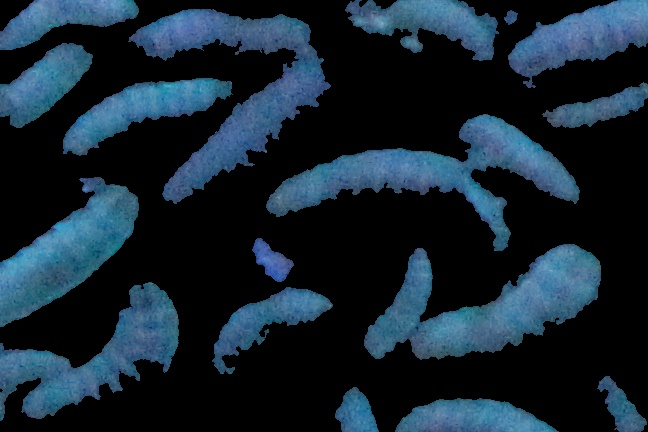larvae: (158, 59, 363, 233), (399, 244, 599, 375), (29, 278, 180, 426), (261, 142, 503, 232), (1, 181, 140, 318), (61, 75, 231, 155), (456, 116, 585, 209), (210, 287, 337, 375), (506, 1, 648, 77), (129, 6, 325, 59), (362, 244, 432, 361), (391, 388, 568, 432), (1, 45, 89, 122), (395, 1, 493, 63), (1, 1, 134, 44), (539, 84, 648, 130), (336, 387, 382, 432)
